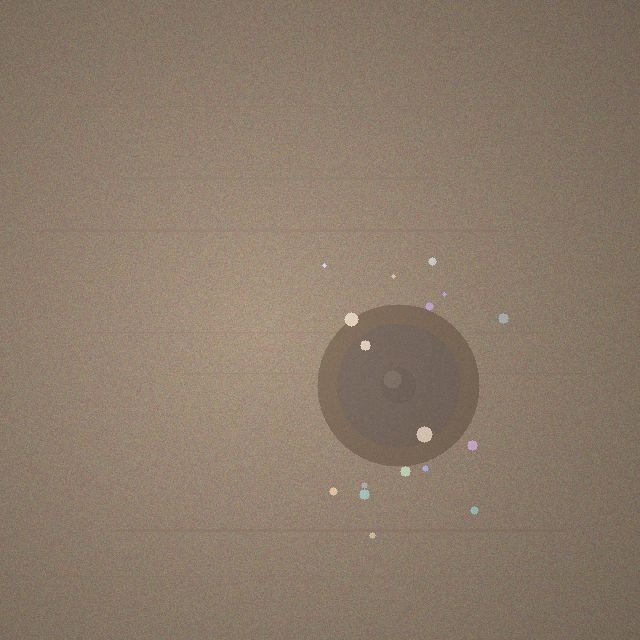overburn: (317, 304, 479, 466)
